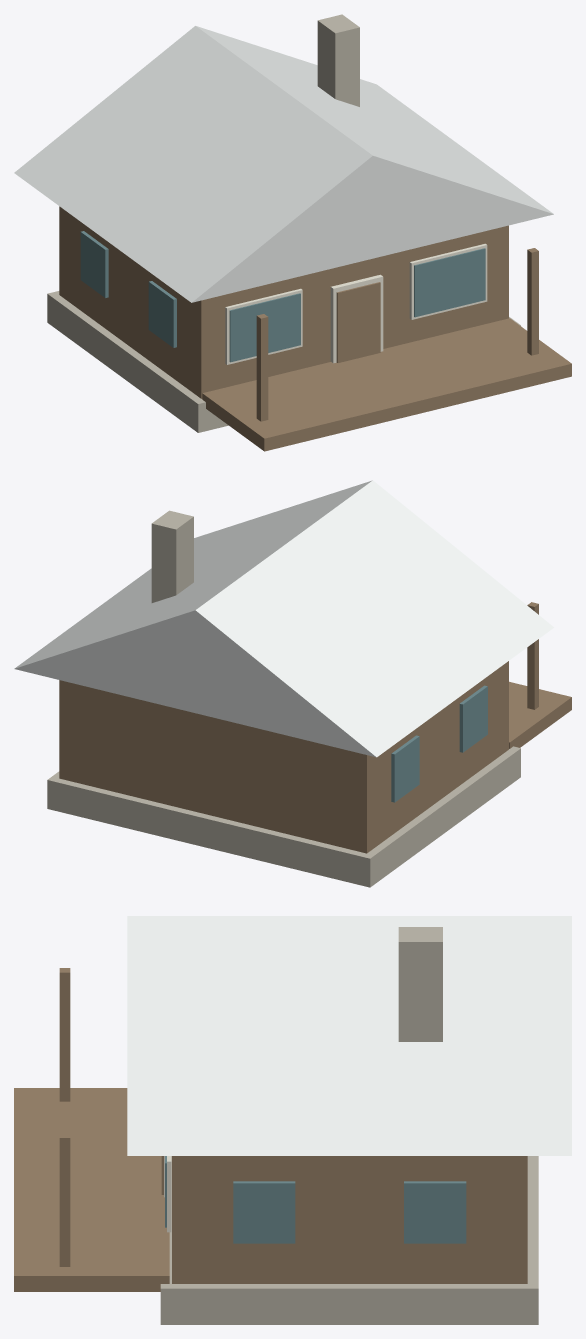
3 renders of one model, top to bottom at view 1: azimuth 30°, elevation 25°; view 2: azimuth 150°, elevation 25°; view 3: azimuth 270°, elevation 25°, orthographic. The views are drawn at different scales.
Size of the model in its own units: 11.8 by 8.5 by 12.55.
